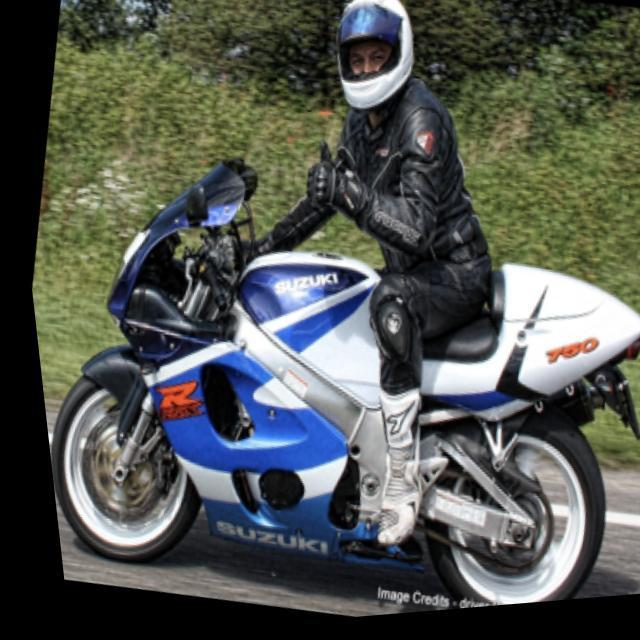Helmet: (328, 0, 422, 115)
